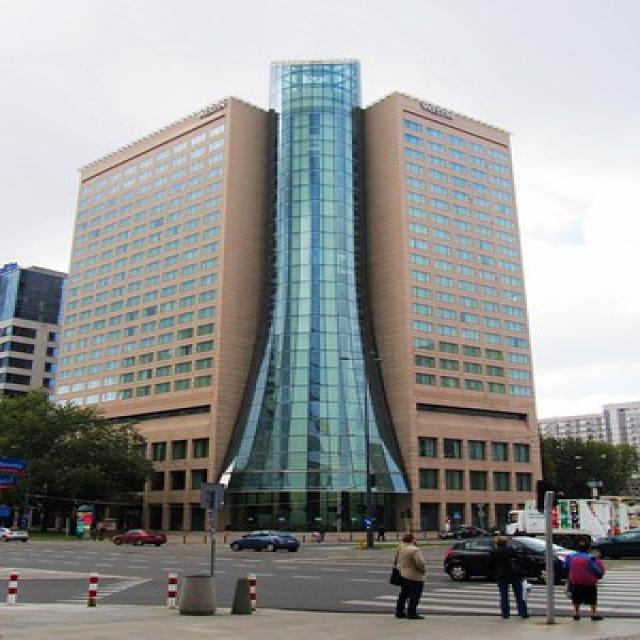building: (35, 94, 276, 508), (227, 43, 411, 536), (365, 93, 544, 526)
